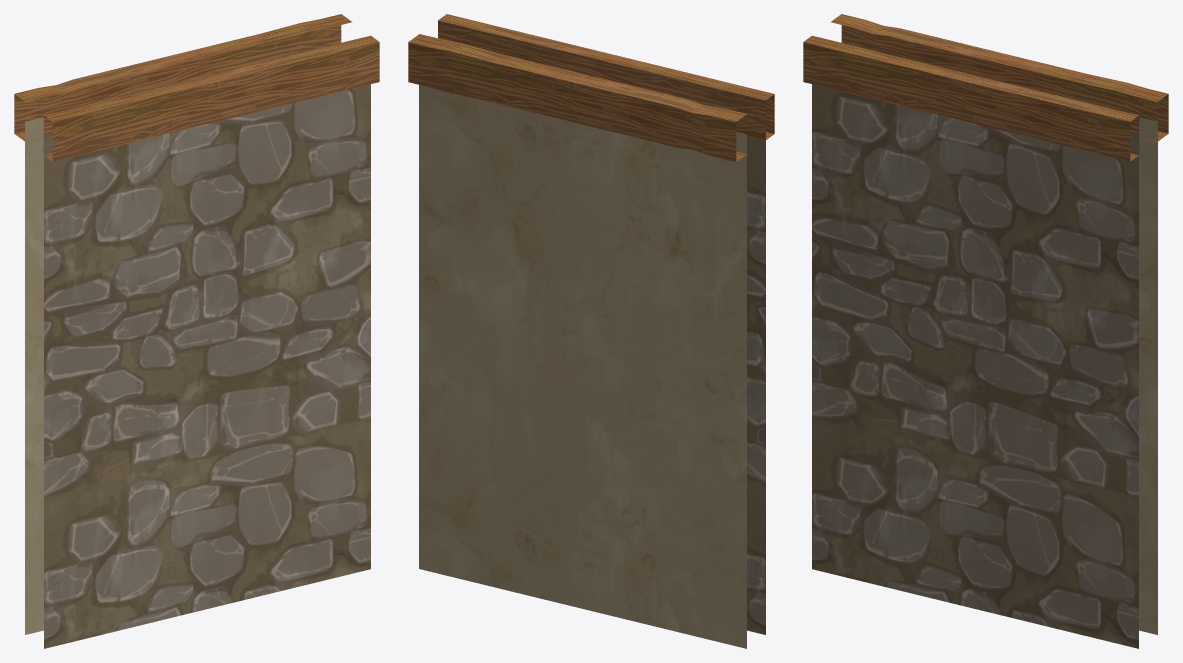
The model's file is Wall_UnevenBrick_Straight.gltf.
3 renders of one model, left to right at view 1: azimuth 30°, elevation 25°; view 2: azimuth 150°, elevation 25°; view 3: azimuth 330°, elevation 25°, orthographic.
Visible parts, largest first — view 1: Wall_UnevenBrick_Straight; view 2: Wall_UnevenBrick_Straight; view 3: Wall_UnevenBrick_Straight.
Boxes of the visible parts, x1,y1,x2,y2 form: Wall_UnevenBrick_Straight: (14, 14, 379, 648); Wall_UnevenBrick_Straight: (408, 14, 774, 648); Wall_UnevenBrick_Straight: (803, 14, 1168, 648).
Bounding box in the file's own units: 2 × 3.12 × 0.4064.
3 materials, 3 textured.
